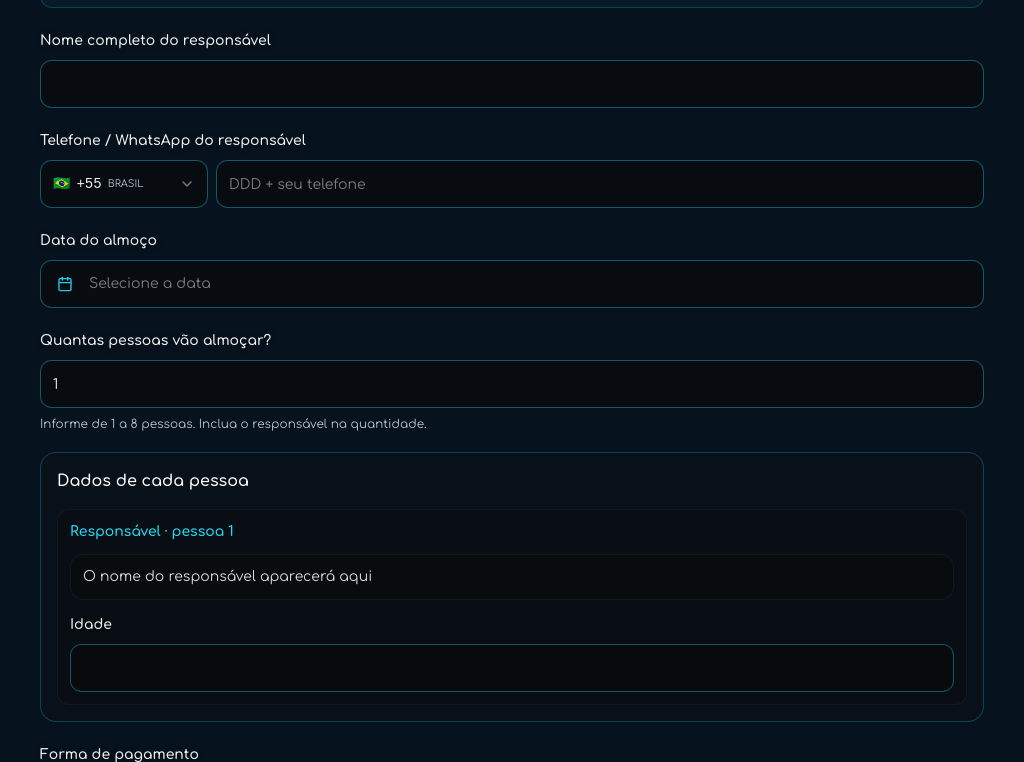
Test: CMS lunch booking form › renders one responsible diner by default and adds name-and-age fields for each added diner
(page scrolled)
Check: the heading "Responsável · pessoa 1" is shown, box [70,524,234,539]
Check: the text "Idade" is shown once, box [70,617,112,632]
Step 1. Replace the text in the number field below "Quantas pessoas vão almoçar?" with "3" → (512, 384), box [40,360,984,408]
(page scrolled)
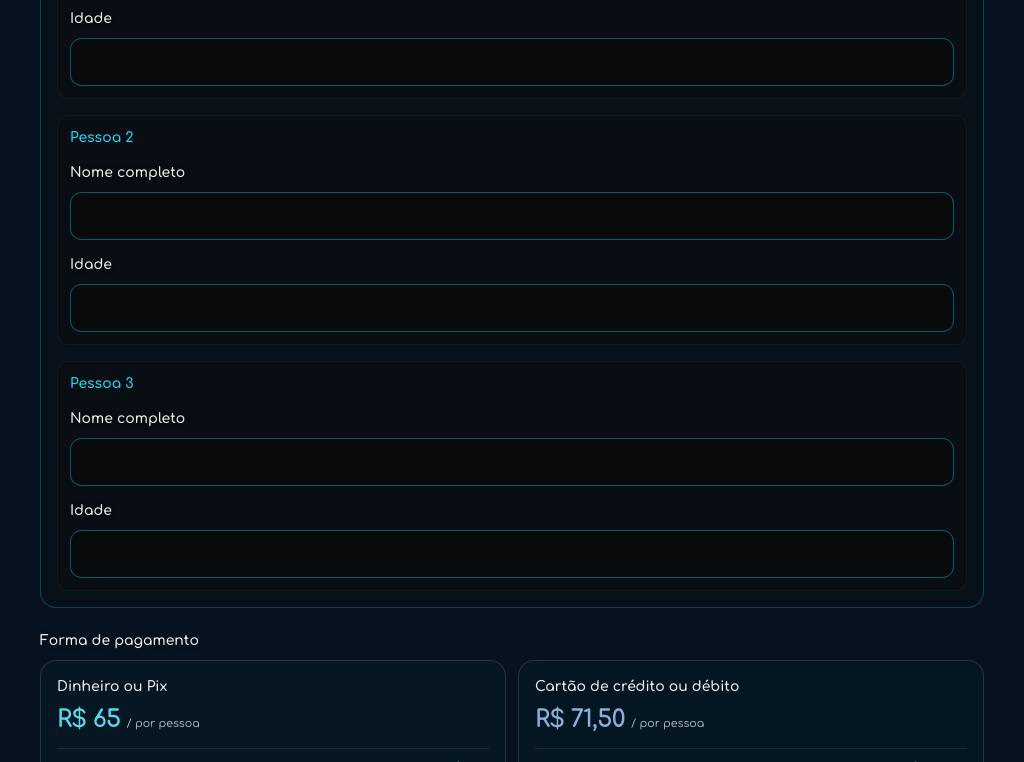
Check: the heading "Pessoa 2" is shown, box [70,130,133,145]
Check: the heading "Pessoa 3" is shown, box [70,376,134,391]
Check: the text "Idade" is shown 3 times, box [70,11,112,26]; [70,257,112,272]; [70,503,112,518]
